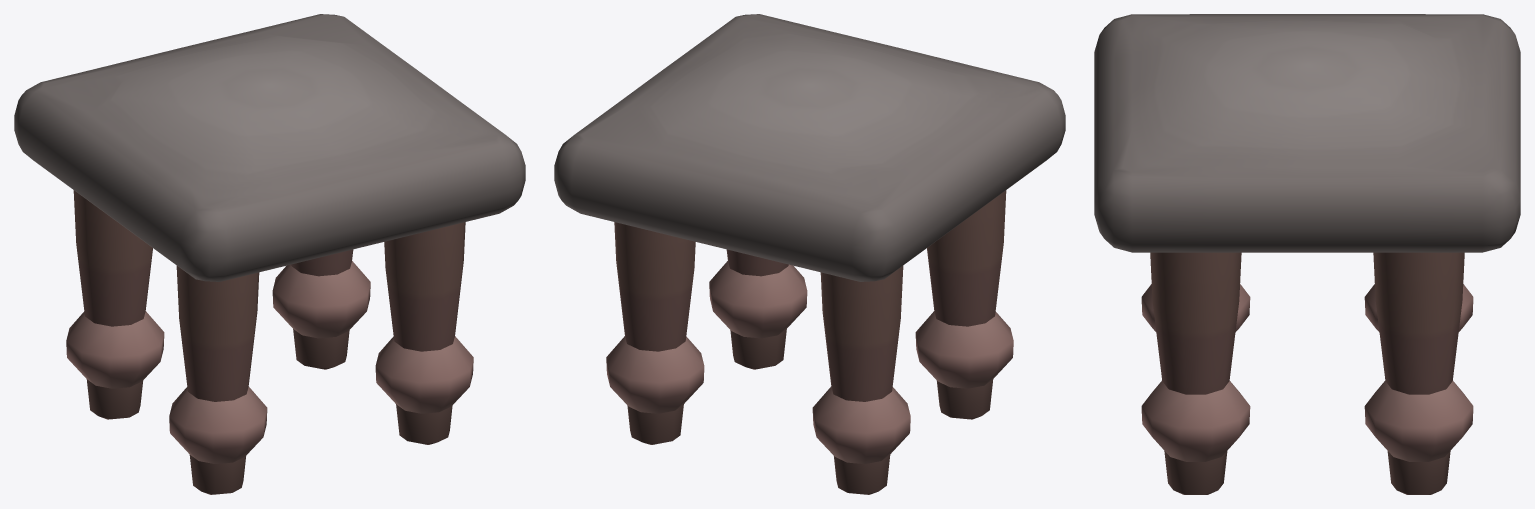
Rendered from Dressing_Chair_01.glb.
3 renders of one model, left to right at view 1: azimuth 30°, elevation 25°; view 2: azimuth 150°, elevation 25°; view 3: azimuth 270°, elevation 25°, orthographic. The views are drawn at different scales.
Parts seen in each view (by area): view 1: Dressing_Chair_01; view 2: Dressing_Chair_01; view 3: Dressing_Chair_01.
Part boxes in pixels (x1=…): Dressing_Chair_01: x1=14, y1=14, x2=525, y2=494; Dressing_Chair_01: x1=554, y1=14, x2=1065, y2=494; Dressing_Chair_01: x1=1094, y1=14, x2=1520, y2=494.
Size of the model in its own units: 0.45 by 0.4292 by 0.45.
1 material, 1 textured.
